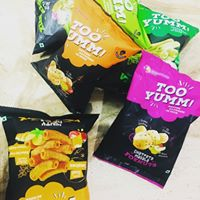plastic: (37, 3, 187, 82), (2, 105, 89, 200), (133, 40, 176, 187)
tooyumm: (146, 73, 194, 112), (69, 18, 108, 63), (143, 9, 189, 34)
wrapper: (100, 54, 191, 156), (5, 108, 88, 198)
